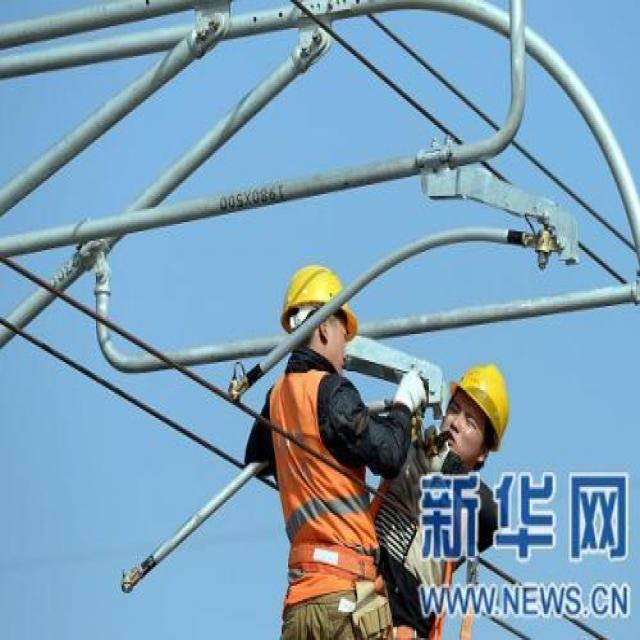hat: (272, 254, 359, 376), (434, 357, 517, 469)
